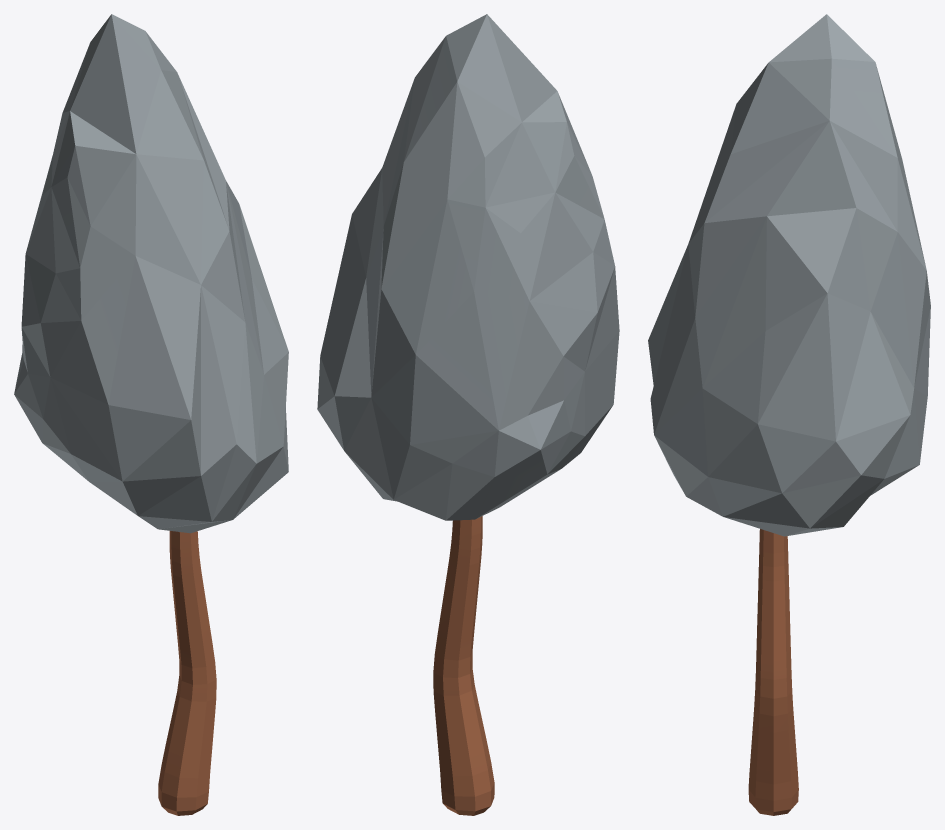
The model's file is arbolPino.glb.
3 renders of one model, left to right at view 1: azimuth 30°, elevation 25°; view 2: azimuth 150°, elevation 25°; view 3: azimuth 270°, elevation 25°, orthographic. The views are drawn at different scales.
Parts seen in each view (by area): view 1: Lowpolytree_02_green.002_Palette_0; view 2: Lowpolytree_02_green.002_Palette_0; view 3: Lowpolytree_02_green.002_Palette_0.
Boxes of the visible parts, x1,y1,x2,y2 form: Lowpolytree_02_green.002_Palette_0: [14, 14, 288, 815]; Lowpolytree_02_green.002_Palette_0: [317, 14, 619, 815]; Lowpolytree_02_green.002_Palette_0: [648, 14, 930, 815].
Bounding box in the file's own units: 2.85 × 8.87 × 2.93.
Materials: 1 (1 with a texture image).
